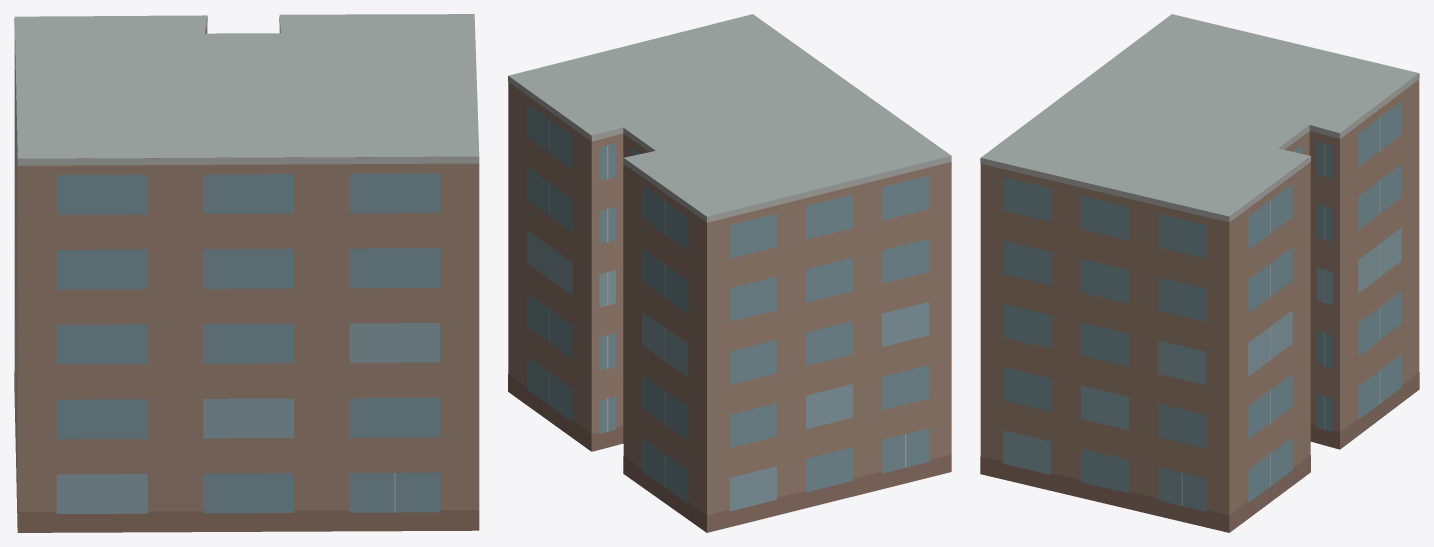
Rendered from survey-upis-32883265.glb.
The picture shows the model from 3 angles, left to right: view 1: azimuth 30°, elevation 25°; view 2: azimuth 150°, elevation 25°; view 3: azimuth 270°, elevation 25°; orthographic projection. The views are drawn at different scales.
Visible parts, largest first — view 1: survey-upis-32883265.tmp; view 2: survey-upis-32883265.tmp; view 3: survey-upis-32883265.tmp.
Boxes of the visible parts, bbox=[...] form: survey-upis-32883265.tmp: bbox=[14, 14, 479, 532]; survey-upis-32883265.tmp: bbox=[508, 14, 951, 532]; survey-upis-32883265.tmp: bbox=[980, 14, 1419, 532].
Size of the model in its own units: 17.86 by 13 by 16.36.
